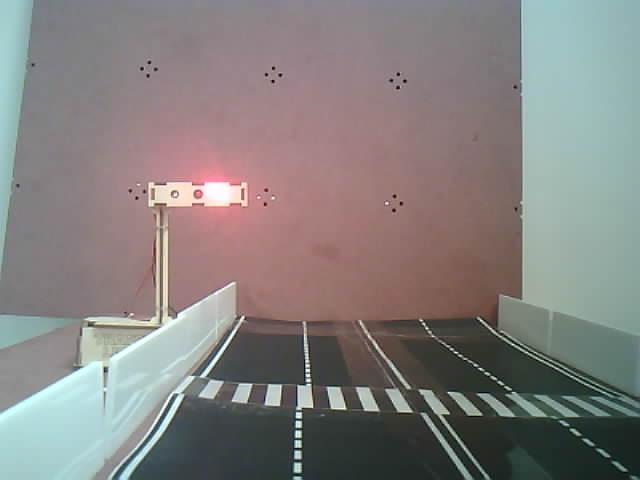crosswalk: (162, 360, 640, 443)
red: (160, 159, 274, 240)
